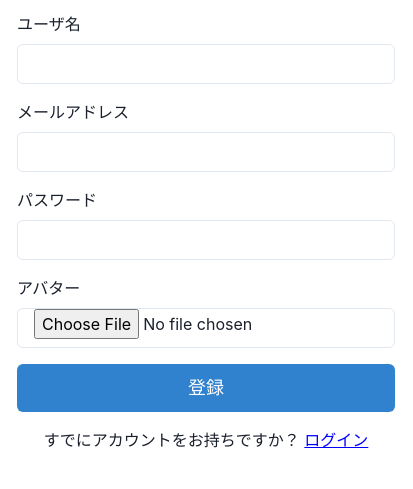
Test: SignupForm › 無効なメールアドレスでエラーが表示される
//  フォームに入力
Type "テストユーザー" into the field labelled "ユーザ名" at (206,64), box x1=17 y1=44 x2=395 y2=84
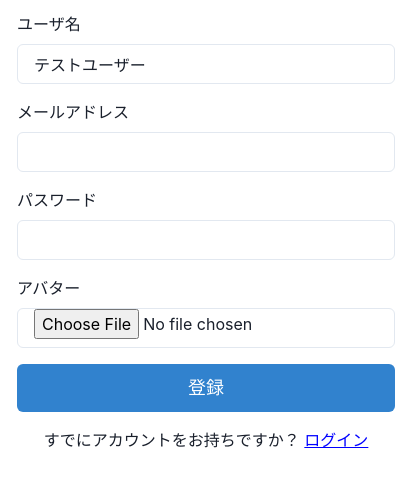
Type "invalid-email" into the field labelled "メールアドレス" at (206,152), box x1=17 y1=132 x2=395 y2=172
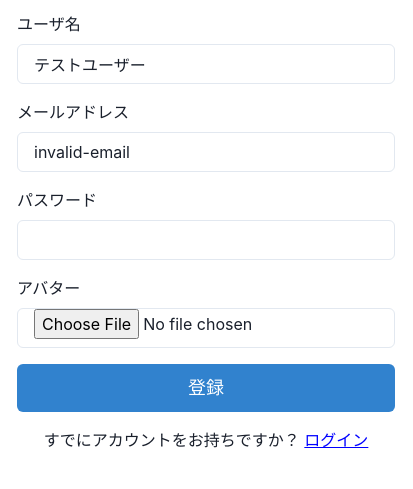
Type "password123" into the password field labelled "パスワード" at (206,240), box x1=17 y1=220 x2=395 y2=260
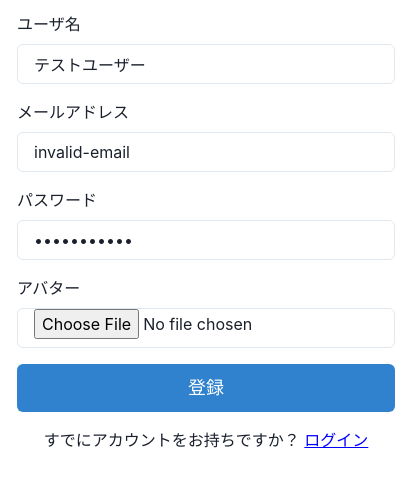
//  フォームを送信
Submit the form from the button "登録", box x1=17 y1=364 x2=395 y2=412
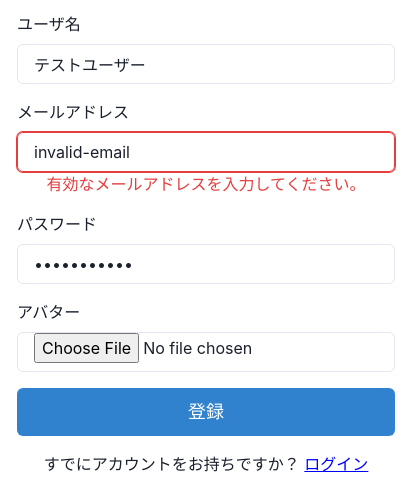
Expected: the text "有効なメールアドレスを入力してください。" is shown, x1=46 y1=174 x2=366 y2=194
